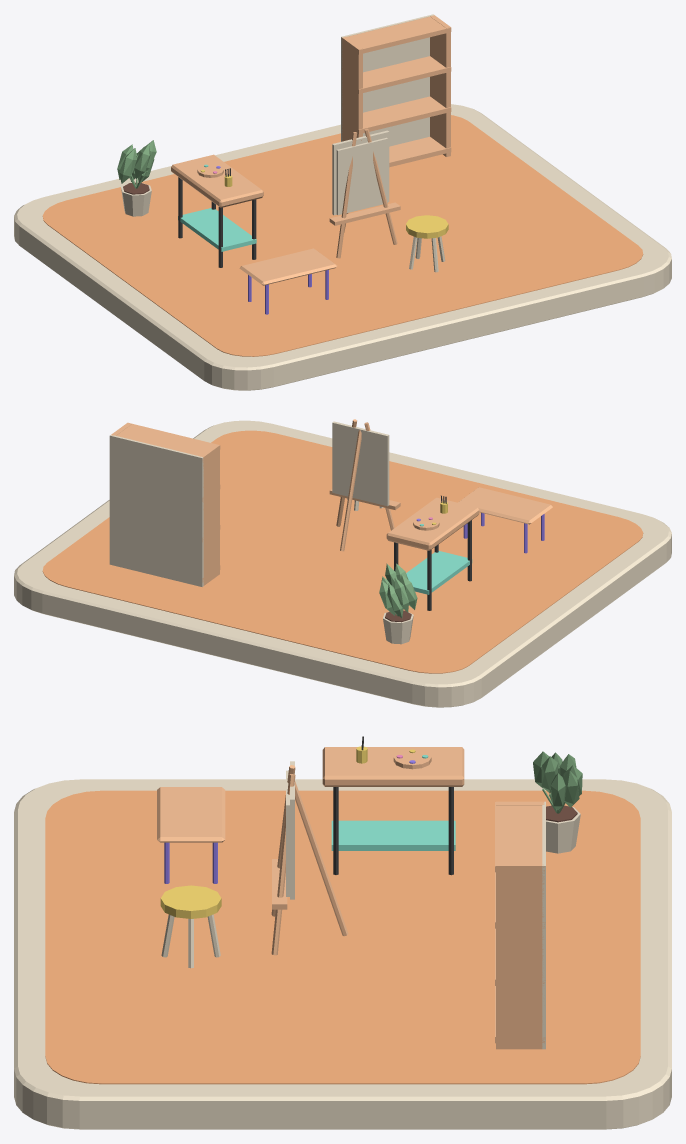
The picture shows the model from 3 angles, top to bottom: view 1: azimuth 30°, elevation 25°; view 2: azimuth 150°, elevation 25°; view 3: azimuth 270°, elevation 25°; orthographic projection. The views are drawn at different scales.
Visible parts, largest first — view 1: COM-02 Floor Surface, COM-01 Rounded Base Direct, Back, Blank canvas, Worktop, Pot, Side.003, Rounded table top, Shelf.003, Side.002, Shelf.001, Shelf.002 (+5 smaller); view 2: COM-02 Floor Surface, COM-01 Rounded Base Direct, Back, Canvas, Worktop, Pot, Side.002, Rounded table top, Lower shelf, Shelf.003, Rear leg; view 3: COM-02 Floor Surface, COM-01 Rounded Base Direct, Side.003, Worktop, Rounded table top, Lower shelf, Pot, Shelf.003, Seat, Rear leg, Back, Side.001 (+2 smaller).
Boxes of the visible parts, x1,y1,x2,y2 form: COM-02 Floor Surface: [42, 115, 643, 356]; COM-01 Rounded Base Direct: [14, 104, 671, 390]; Back: [341, 14, 433, 146]; Blank canvas: [336, 137, 387, 215]; Worktop: [171, 154, 263, 207]; Pot: [117, 140, 156, 216]; Side.003: [430, 15, 450, 156]; Rounded table top: [239, 248, 337, 285]; Shelf.003: [346, 16, 451, 54]; Side.002: [342, 36, 362, 141]; Shelf.001: [343, 96, 451, 134]; Shelf.002: [346, 56, 451, 93]; COM-02 Floor Surface: [42, 430, 643, 673]; COM-01 Rounded Base Direct: [14, 420, 671, 707]; Back: [109, 435, 203, 586]; Canvas: [332, 421, 389, 506]; Worktop: [386, 497, 479, 550]; Pot: [379, 563, 417, 644]; Side.002: [199, 444, 219, 585]; Rounded table top: [458, 487, 552, 524]; Lower shelf: [406, 551, 472, 594]; Shelf.003: [116, 422, 220, 461]; Rear leg: [340, 430, 361, 551]; COM-02 Floor Surface: [45, 790, 640, 1084]; COM-01 Rounded Base Direct: [14, 779, 671, 1129]; Side.003: [496, 862, 544, 1049]; Worktop: [322, 747, 464, 786]; Rounded table top: [157, 787, 225, 842]; Lower shelf: [331, 820, 455, 850]; Pot: [533, 751, 582, 853]; Shelf.003: [495, 802, 544, 872]; Seat: [160, 885, 221, 918]; Rear leg: [295, 781, 348, 936]; Back: [542, 801, 545, 1049]; Side.001: [271, 774, 295, 955].
Size of the model in its own units: 6 by 1.9 by 5.2.
Materials: 1 (1 with a texture image).
